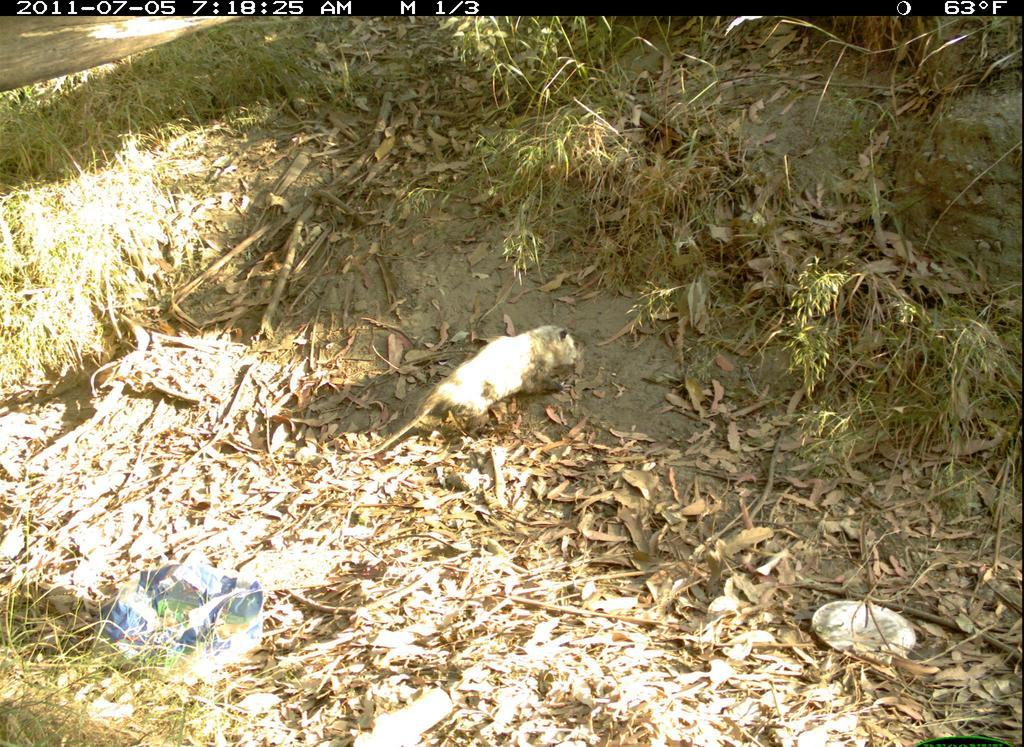opossum: (353, 321, 594, 456)
